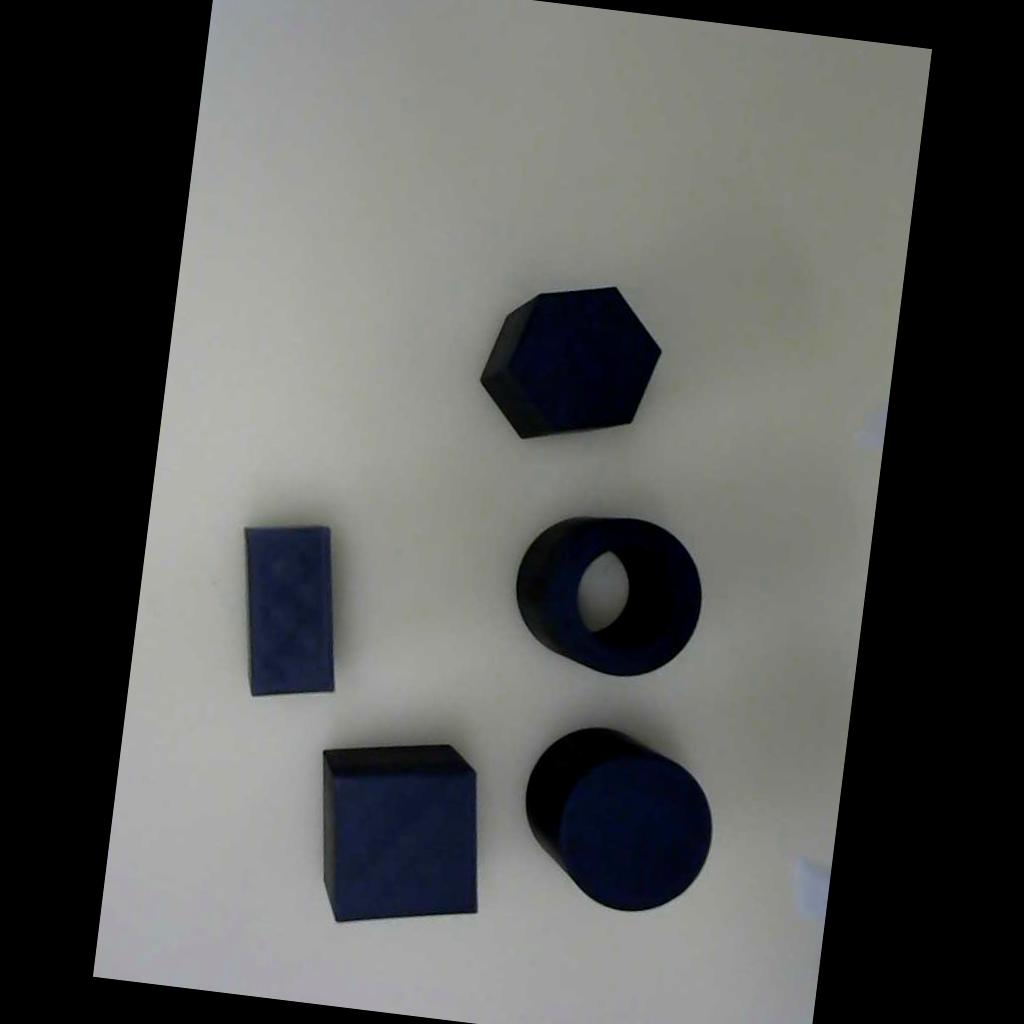circle: (508, 709, 734, 929)
hexagon: (457, 267, 688, 461)
rectangle: (232, 509, 345, 707)
ring: (492, 491, 722, 697)
square: (299, 722, 497, 943)
